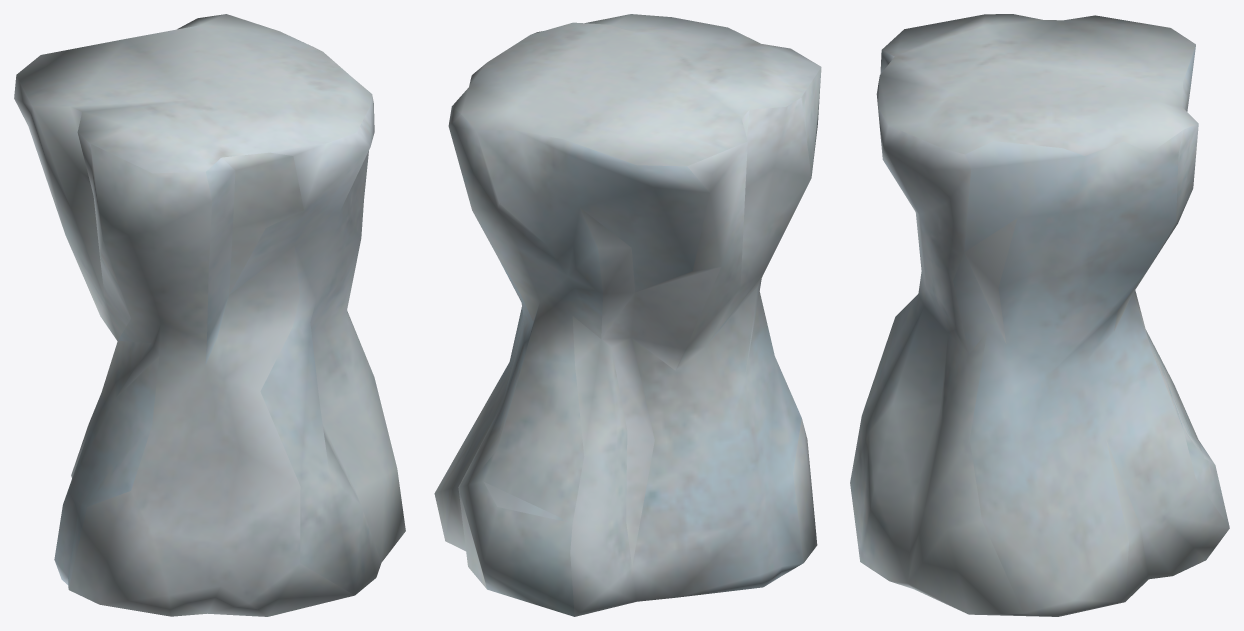
File: P_PlatformClassic3.obj
3 renders of one model, left to right at view 1: azimuth 30°, elevation 25°; view 2: azimuth 150°, elevation 25°; view 3: azimuth 270°, elevation 25°, orthographic. The views are drawn at different scales.
Size of the model in its own units: 7.73 by 10.41 by 7.66.
